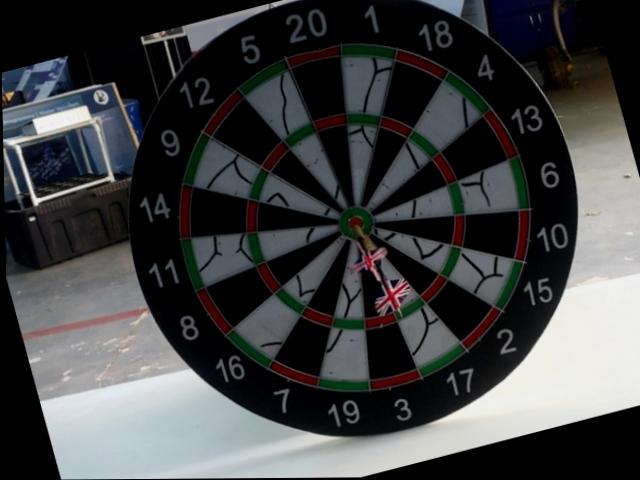bullseye: (340, 205, 372, 242)
